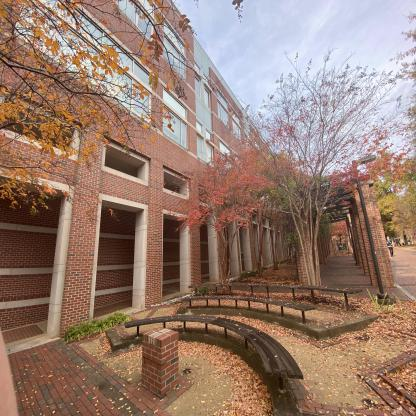EB-1: (0, 72, 340, 355)
